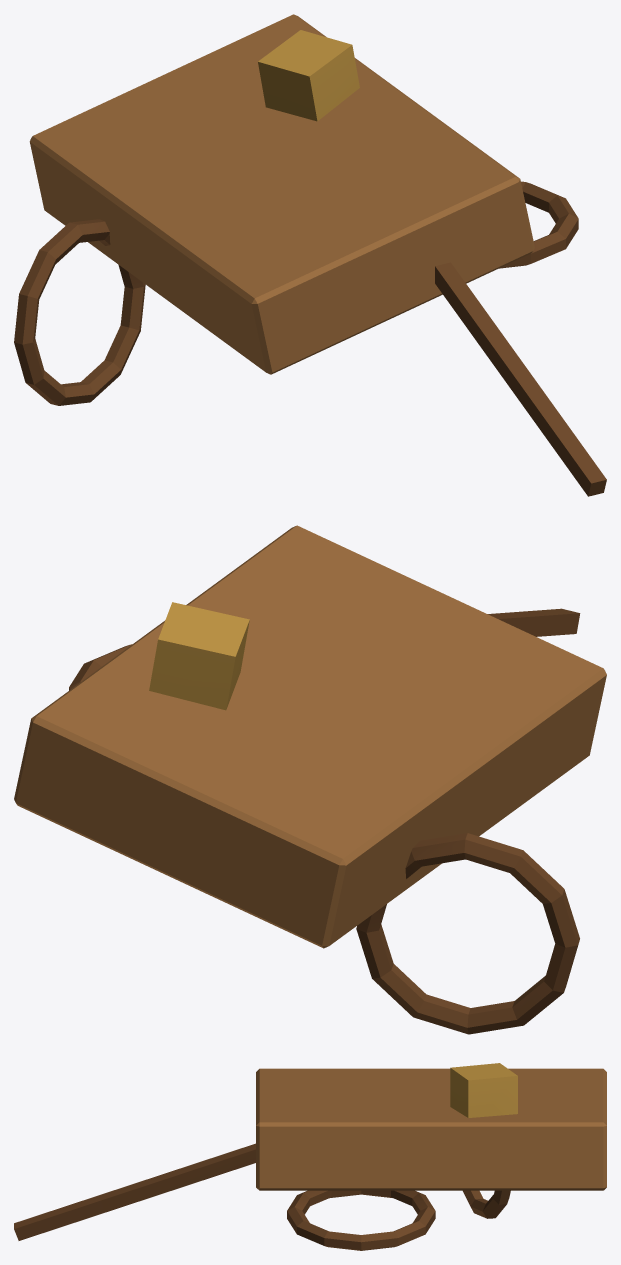
File: cart.glb
3 renders of one model, top to bottom at view 1: azimuth 30°, elevation 25°; view 2: azimuth 150°, elevation 25°; view 3: azimuth 270°, elevation 25°, orthographic. The views are drawn at different scales.
Visible parts, largest first — view 1: cart; view 2: cart; view 3: cart.
Boxes of the visible parts, x1=… form: cart: x1=14, y1=14, x2=606, y2=496; cart: x1=14, y1=525, x2=606, y2=1034; cart: x1=14, y1=1063, x2=606, y2=1250.
Size of the model in its own units: 2.48 by 1.45 by 3.38.
